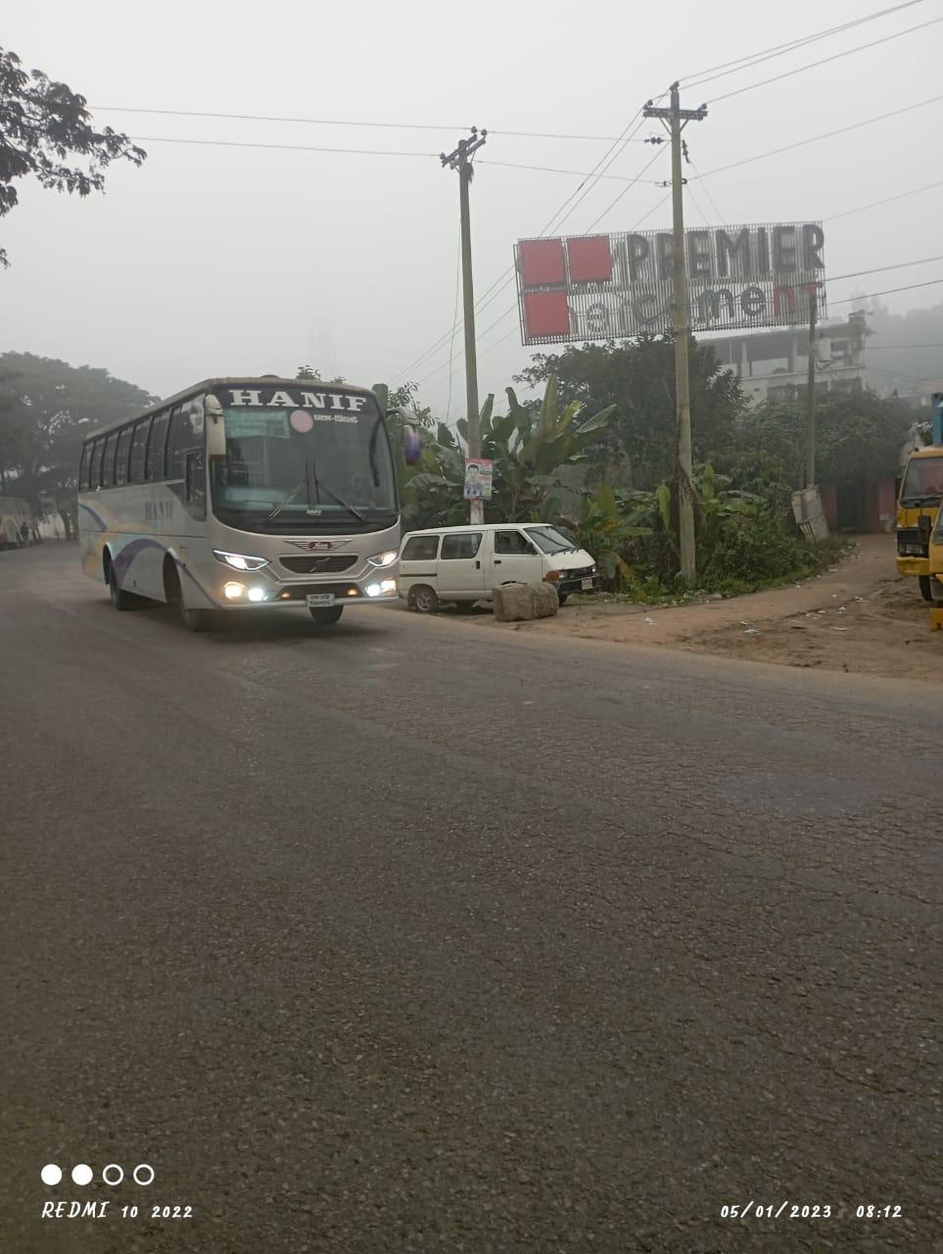Bus: (53, 364, 409, 673)
Car: (401, 520, 588, 632)
